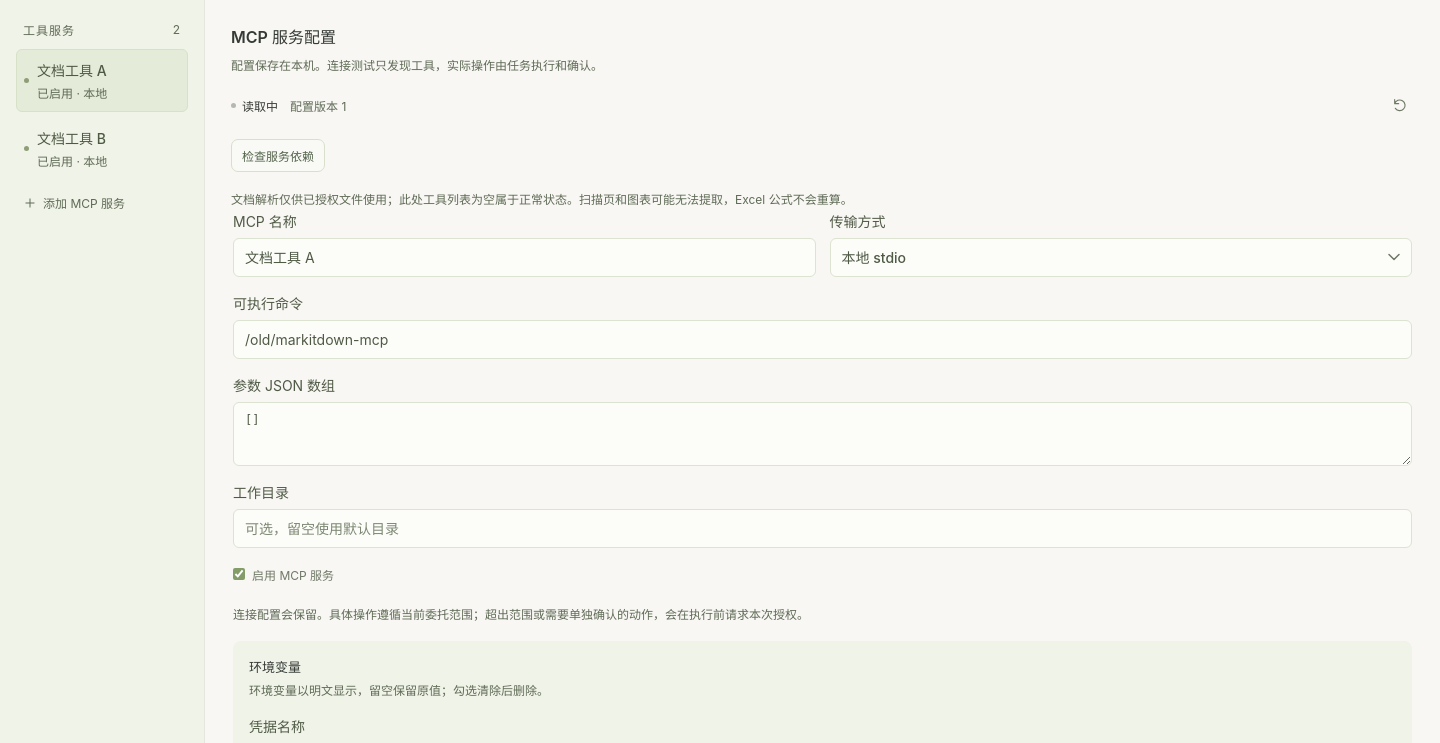
it: does not leak saved-preset results into another service after switching
Check: the field showing "文档工具 A" is shown, box [233,238,816,277]
Click the button "检查服务依赖".
click(278, 156)  # box [231,139,325,172]
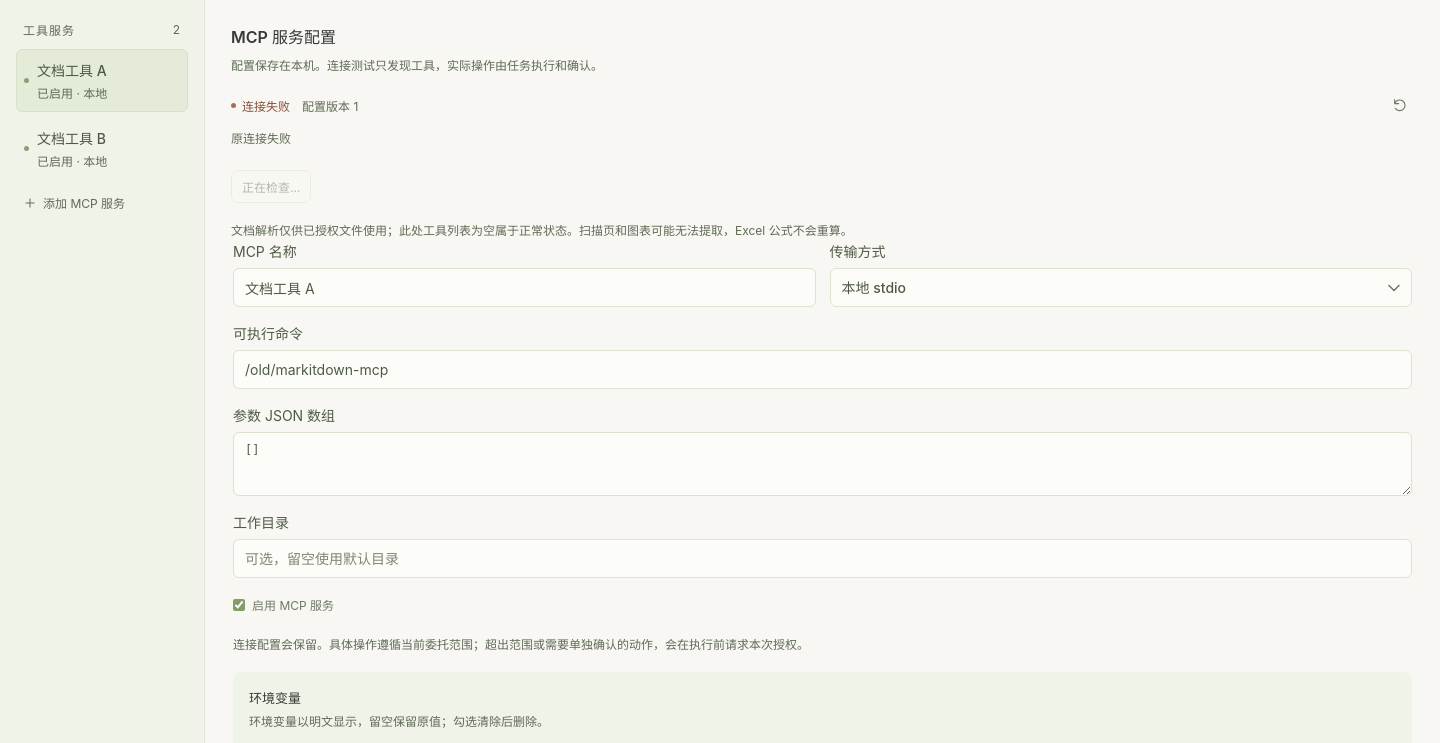
Click the button with aria-label "文档工具 B · 已启用".
click(102, 148)  # box [16,117,188,180]
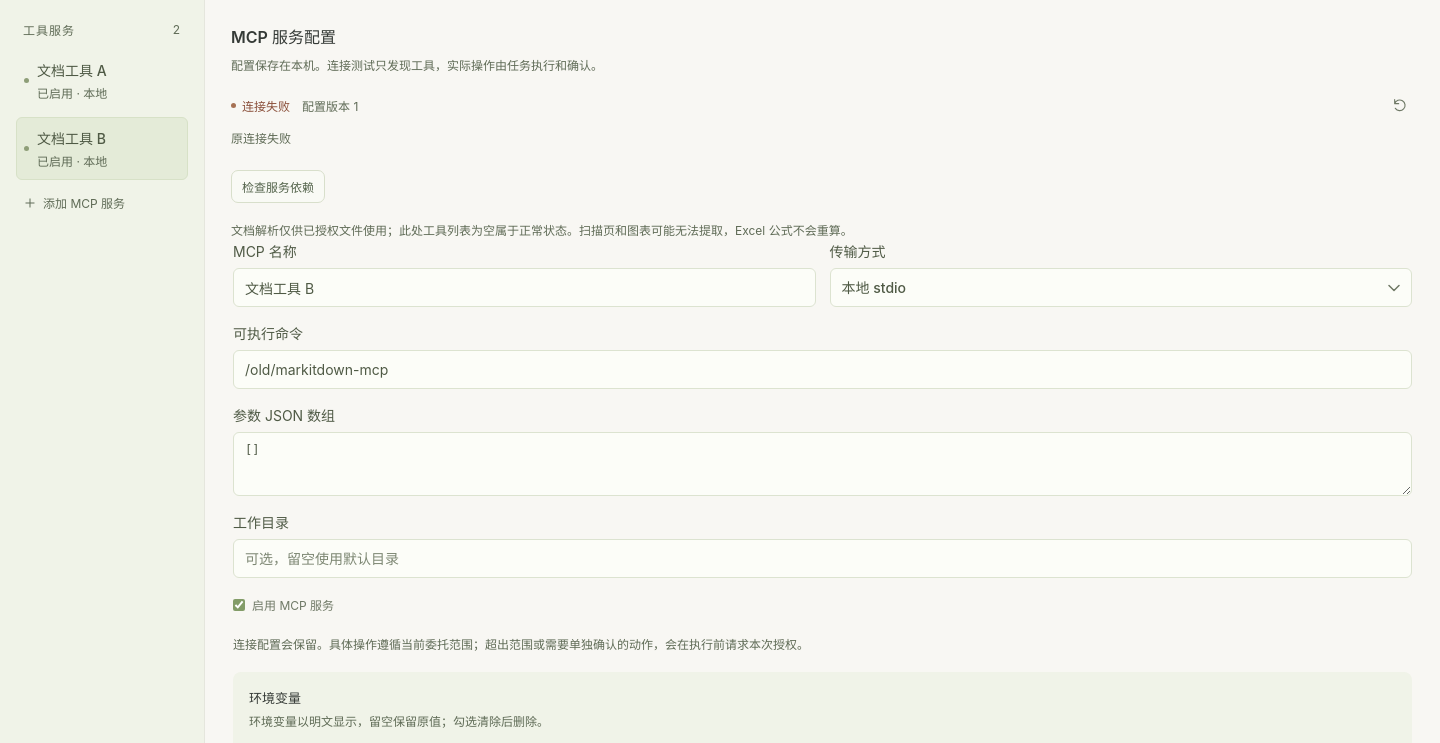
Check: the field showing "文档工具 B" is shown, box [233,268,816,307]
